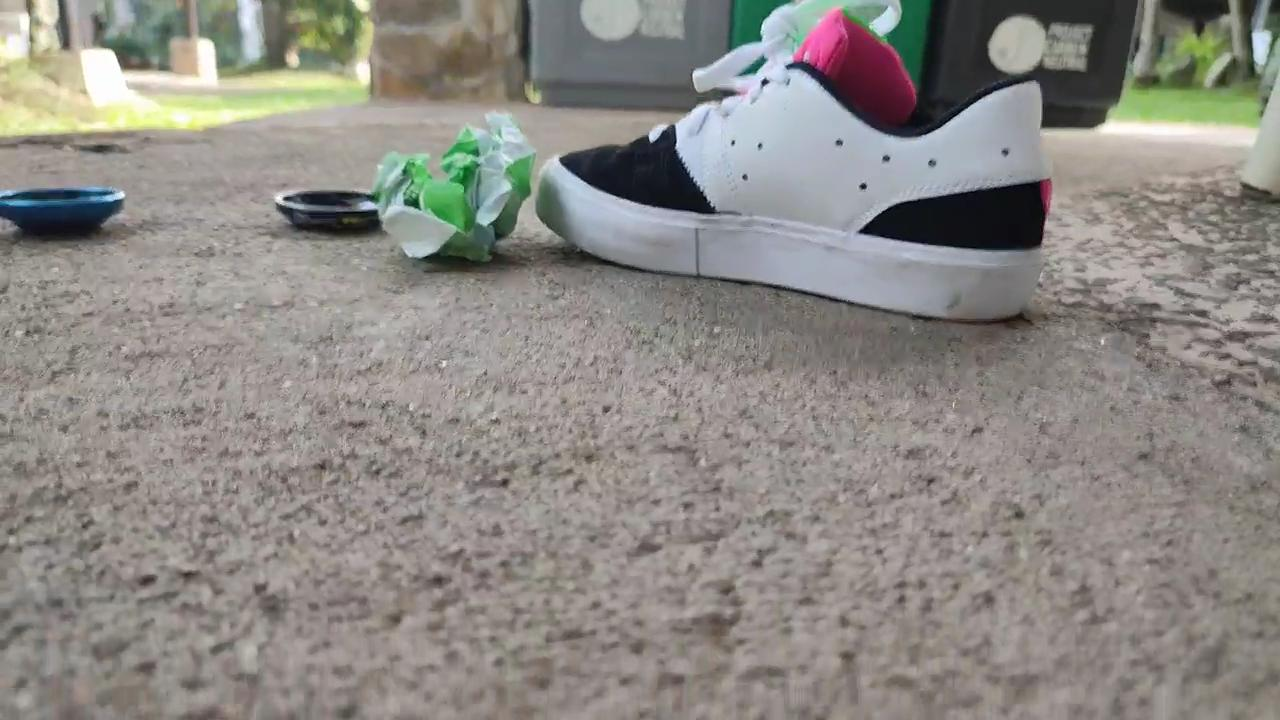Paper: (353, 94, 541, 284)
